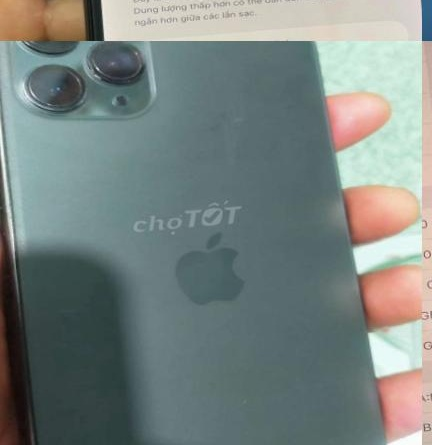scratch: (0, 189, 29, 262), (98, 68, 147, 94), (233, 390, 261, 420), (126, 41, 151, 61), (18, 60, 36, 86)
